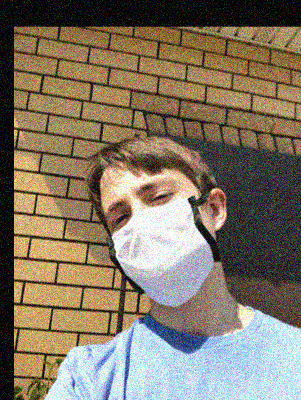with_mask: (98, 175, 225, 306)
